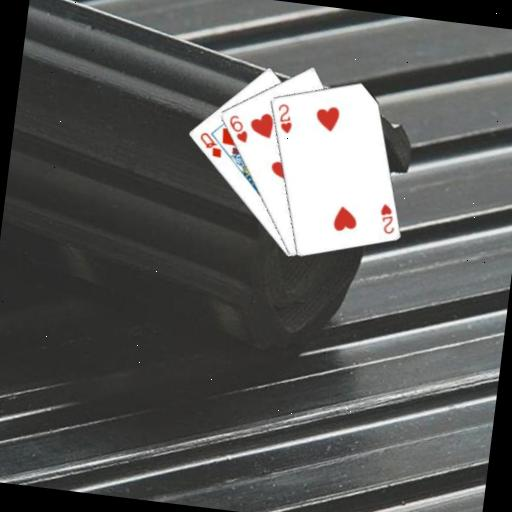2H: (272, 100, 296, 136), (375, 200, 399, 236)
6H: (224, 111, 252, 145)
QD: (195, 129, 226, 160)
